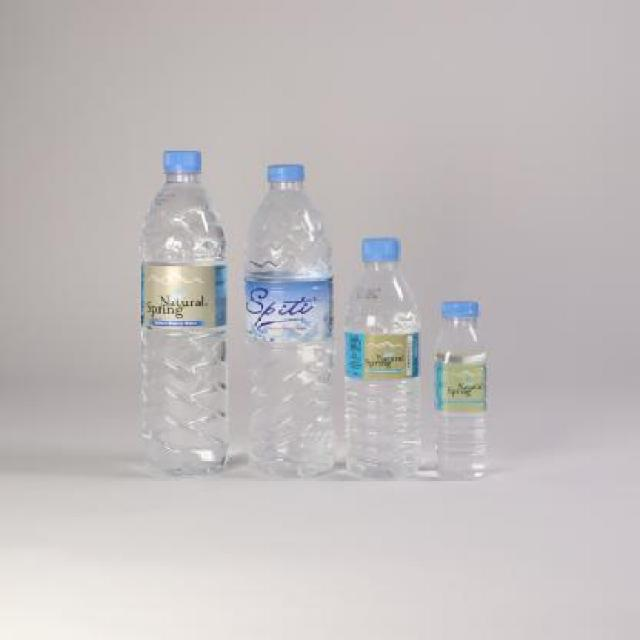bottle: (133, 141, 234, 495), (333, 228, 428, 494)
